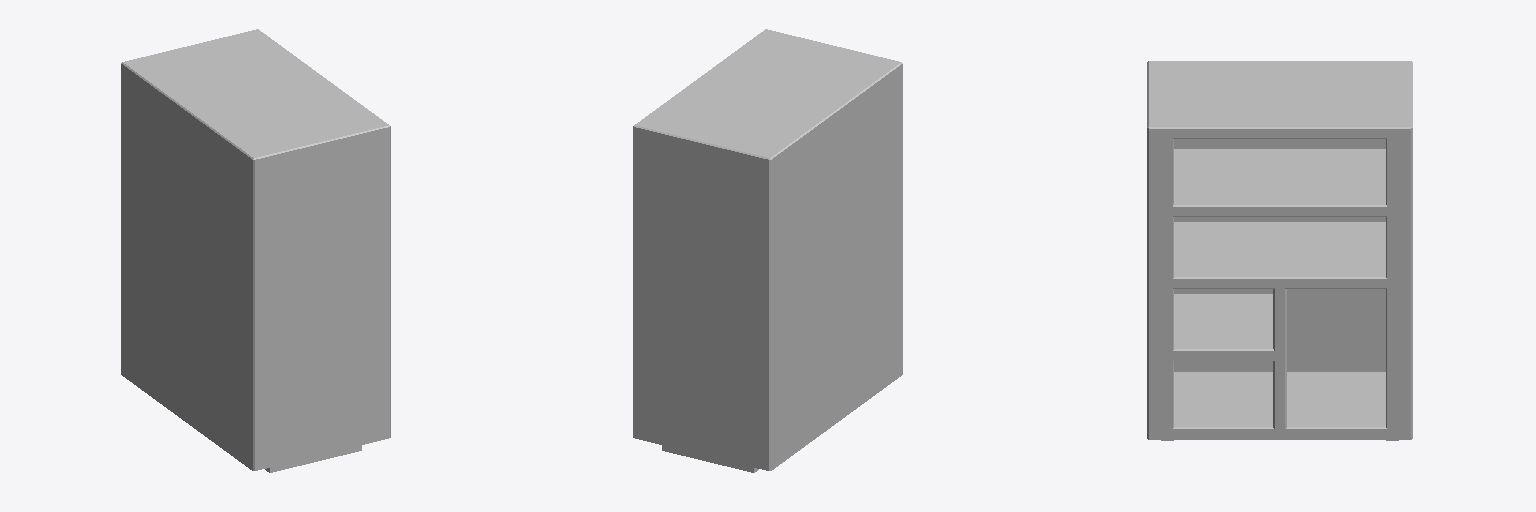
Rendered from cupboard-open.obj.
3 views of the same model, side by side, from view 1: azimuth 30°, elevation 25°; view 2: azimuth 150°, elevation 25°; view 3: azimuth 270°, elevation 25° (orthographic).
Parts seen in each view (by area): view 1: cupboard_Cube; view 2: cupboard_Cube; view 3: cupboard_Cube.
Part boxes in pixels (x1,y1,x2,y2): cupboard_Cube: (121,29,390,472); cupboard_Cube: (633,29,902,472); cupboard_Cube: (1147,61,1412,440).
Bounding box in the file's own units: 0.6 × 1.35 × 1.